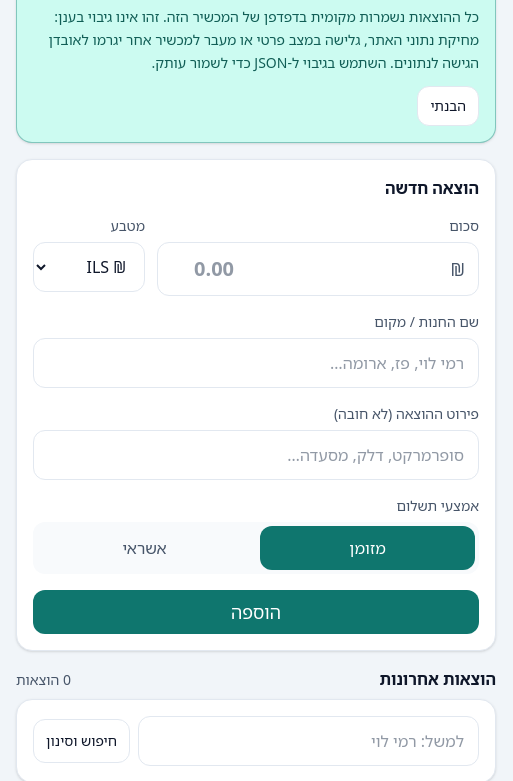
Test case: App › מוסיף הוצאה גם ללא פירוט
Type "12" into the field labelled "סכום" at (318, 269), box [157, 242, 479, 296]
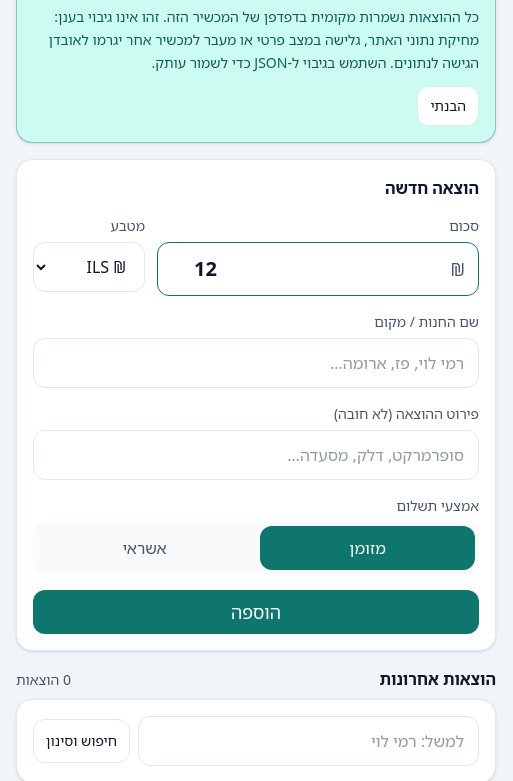
Type "חניון דיזנגוף" into the field labelled "שם החנות / מקום" at (256, 363), box [33, 338, 479, 388]
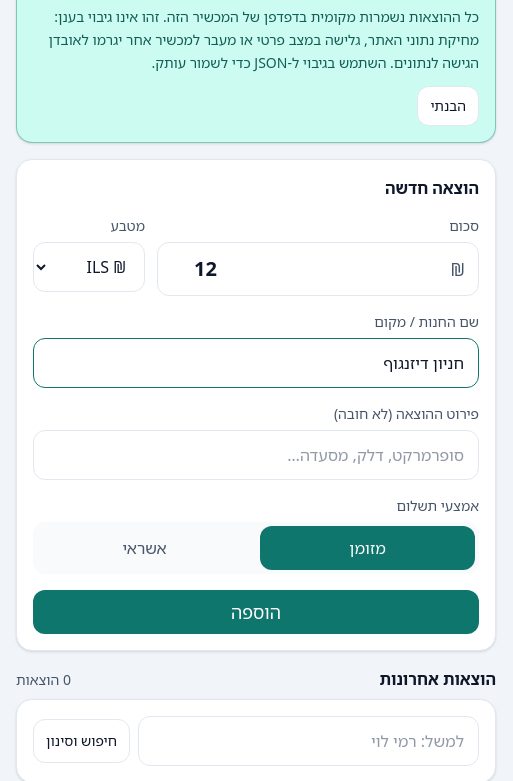
Click the button "הוספה" at (256, 612), box [33, 590, 479, 634]
(page scrolled)
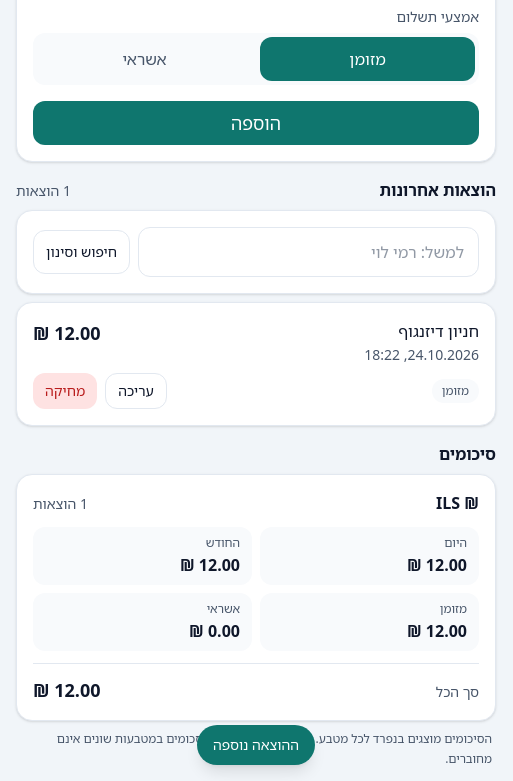
Expected: the text "חניון דיזנגוף" is shown, [398, 320, 479, 342]
